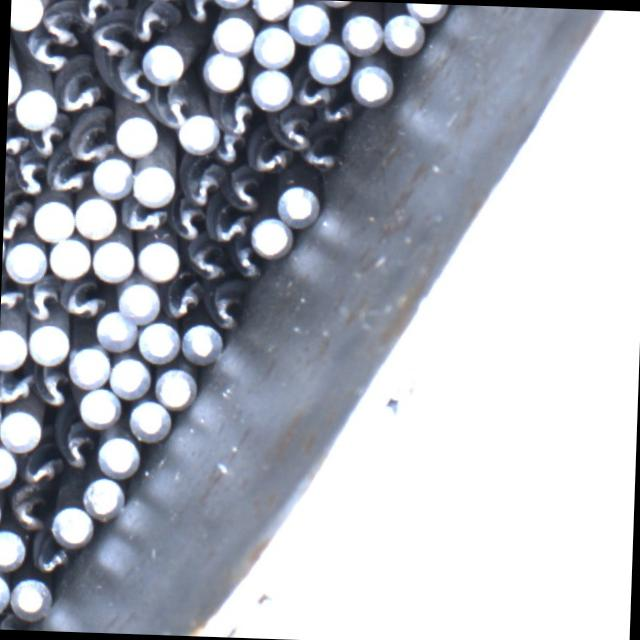tool: (7, 574, 52, 622), (3, 236, 49, 282), (252, 22, 298, 68), (72, 194, 117, 239), (115, 276, 160, 321), (95, 432, 139, 478), (12, 84, 57, 128), (48, 232, 91, 278), (248, 66, 294, 109), (136, 236, 180, 280), (135, 318, 178, 363), (78, 385, 121, 430), (306, 38, 349, 82), (90, 237, 134, 280), (94, 308, 137, 351), (286, 0, 329, 43), (113, 113, 156, 156), (0, 407, 41, 452), (108, 356, 150, 399), (131, 162, 174, 204), (248, 215, 290, 258), (201, 48, 244, 90), (143, 41, 185, 84), (180, 324, 222, 366), (32, 197, 73, 240), (52, 503, 95, 544), (91, 155, 132, 197), (68, 344, 109, 386), (126, 398, 168, 439), (351, 63, 392, 105), (154, 366, 194, 409), (28, 321, 68, 364), (81, 474, 122, 515), (178, 112, 219, 153), (340, 16, 382, 56), (380, 11, 422, 51), (212, 14, 254, 54), (276, 182, 314, 222), (0, 325, 27, 368), (0, 528, 25, 569), (10, 0, 42, 31), (250, 0, 294, 18), (404, 3, 444, 22), (0, 442, 16, 485), (0, 568, 11, 617)
tool_b: (53, 56, 103, 116), (104, 58, 153, 107), (204, 277, 247, 331), (58, 274, 105, 322), (5, 482, 50, 530), (11, 148, 50, 202), (177, 160, 222, 206), (68, 116, 113, 162), (178, 238, 226, 281), (39, 0, 82, 48), (54, 420, 96, 469), (88, 13, 132, 59), (22, 29, 68, 72), (121, 198, 171, 237), (162, 278, 204, 324), (132, 0, 177, 42), (31, 361, 70, 409), (222, 164, 260, 212), (206, 207, 252, 246), (20, 447, 63, 487), (168, 202, 209, 242), (44, 161, 90, 195), (271, 110, 312, 148), (214, 128, 252, 168), (226, 243, 266, 280), (30, 537, 71, 572), (26, 282, 61, 323), (290, 76, 336, 106), (153, 88, 187, 128), (224, 92, 256, 134), (0, 269, 27, 318), (0, 367, 34, 405), (28, 123, 66, 157), (315, 97, 358, 127), (253, 144, 292, 177), (301, 142, 339, 174), (3, 201, 32, 241), (80, 0, 122, 22), (6, 115, 29, 155), (182, 0, 217, 26)
